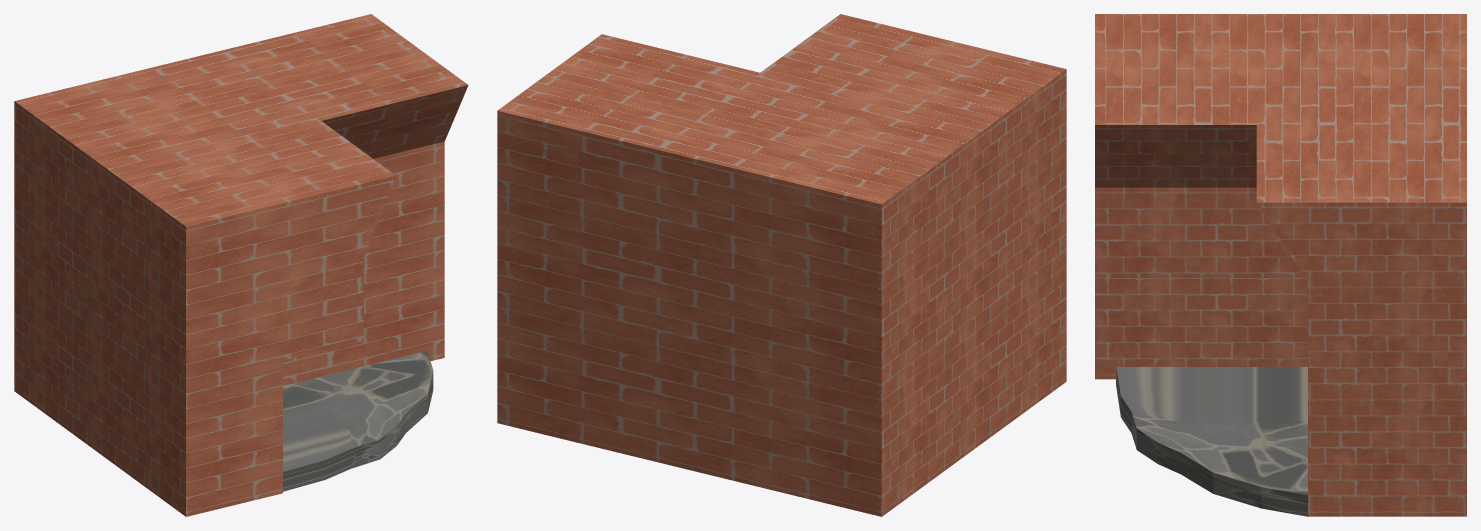
The model's file is fireplace_kitchen.glb.
3 views of the same model, side by side, from view 1: azimuth 30°, elevation 25°; view 2: azimuth 150°, elevation 25°; view 3: azimuth 270°, elevation 25° (orthographic). The views are drawn at different scales.
Parts seen in each view (by area): view 1: kominek, Cube; view 2: kominek; view 3: kominek, Cube.
Boxes of the visible parts, x1=… form: kominek: x1=14, y1=14, x2=468, y2=516; Cube: x1=283, y1=351, x2=433, y2=491; kominek: x1=497, y1=14, x2=1066, y2=516; kominek: x1=1095, y1=14, x2=1466, y2=516; Cube: x1=1116, y1=367, x2=1308, y2=516.
Bounding box in the file's own units: 5.62 × 4.49 × 4.68.
2 materials, 2 textured.
